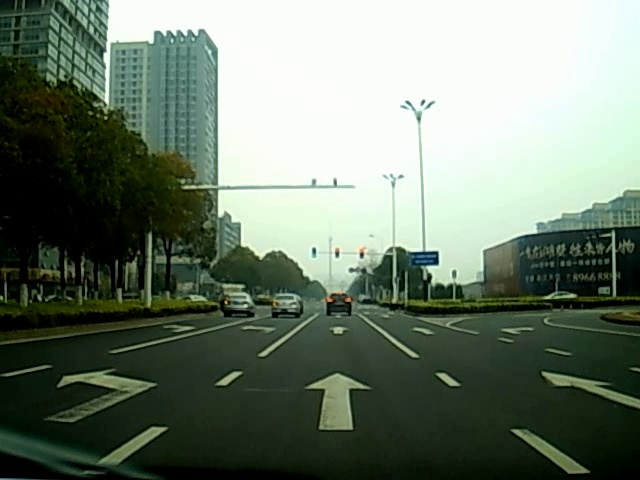Traffic_Light_stop: (358, 248, 365, 260), (334, 248, 341, 259)
